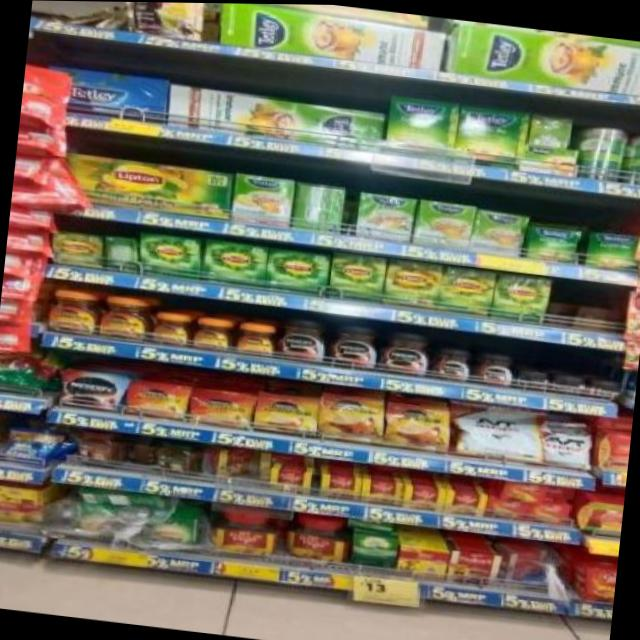Coffee: (320, 392, 384, 443), (386, 400, 448, 452), (254, 391, 320, 436), (380, 327, 434, 375), (97, 295, 153, 340), (61, 369, 121, 411), (128, 379, 188, 421), (44, 289, 96, 337), (192, 388, 252, 428), (328, 321, 378, 368), (276, 315, 326, 362), (152, 309, 192, 346), (234, 320, 273, 356), (193, 315, 231, 351), (474, 351, 512, 387), (436, 346, 472, 381), (512, 368, 548, 391), (588, 376, 622, 398), (550, 372, 585, 393)
